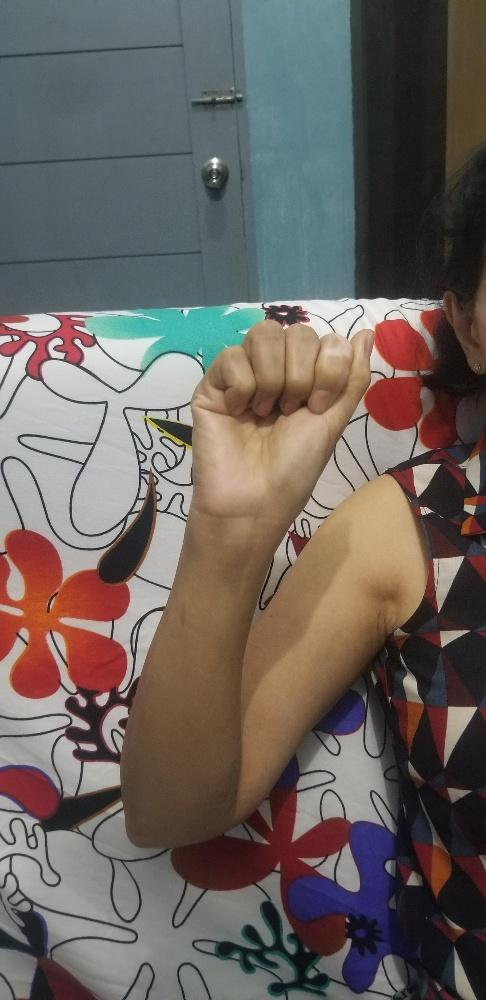a: (186, 317, 376, 512)
